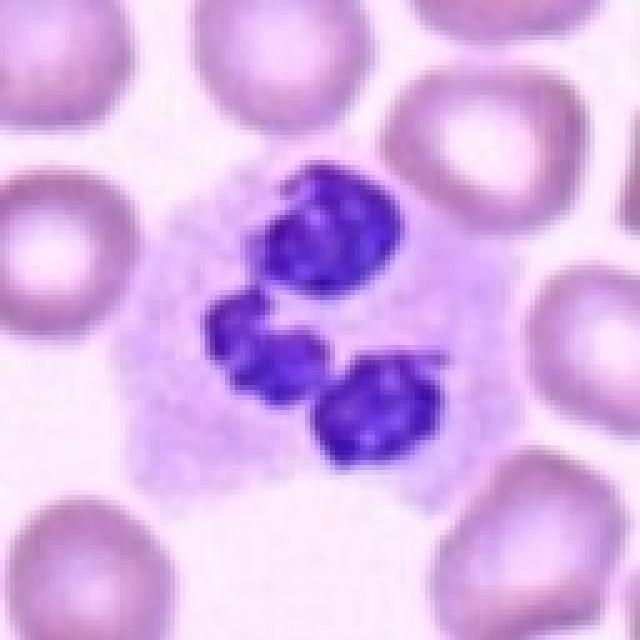neutro: (82, 139, 640, 540)
